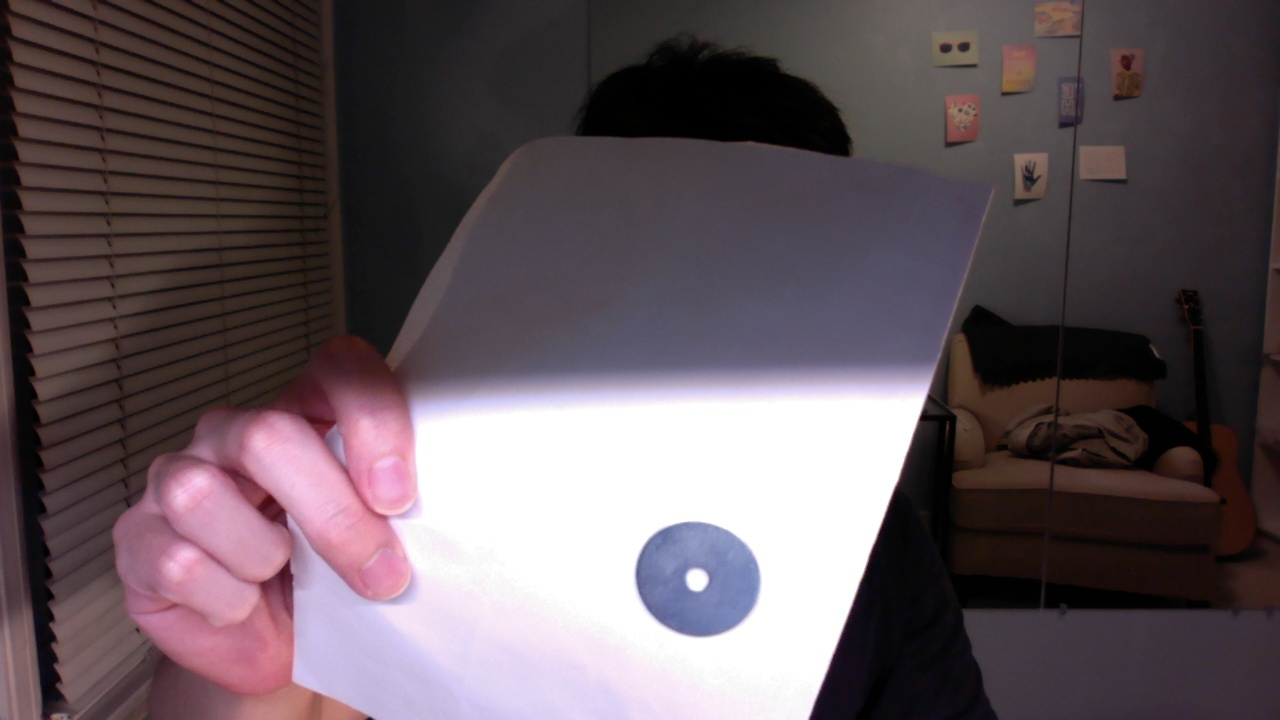NonDetectiveWashers: (634, 519, 762, 639)
